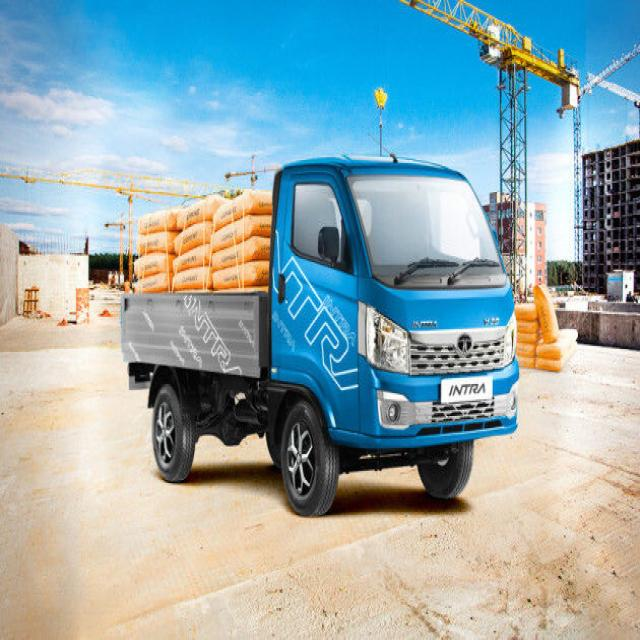truck: (121, 159, 520, 516)
